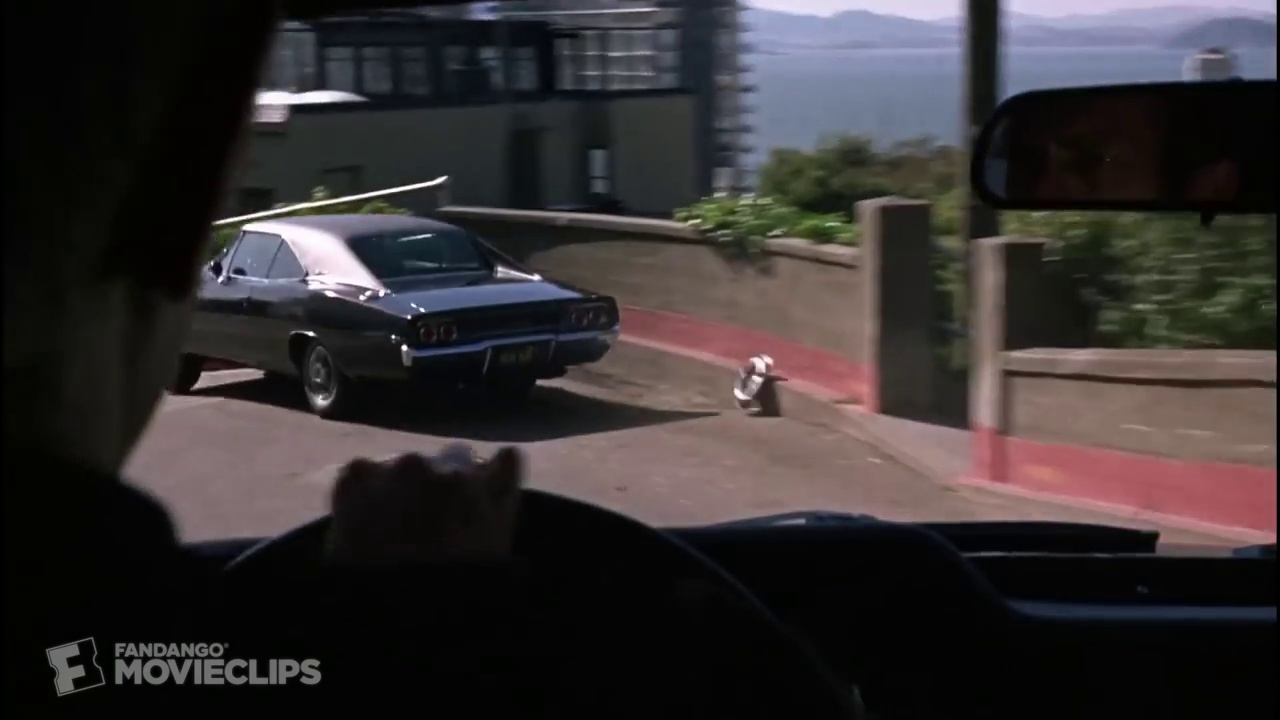car: (218, 437, 1275, 720), (135, 198, 633, 435)
person: (1, 4, 311, 555), (997, 88, 1272, 207)
